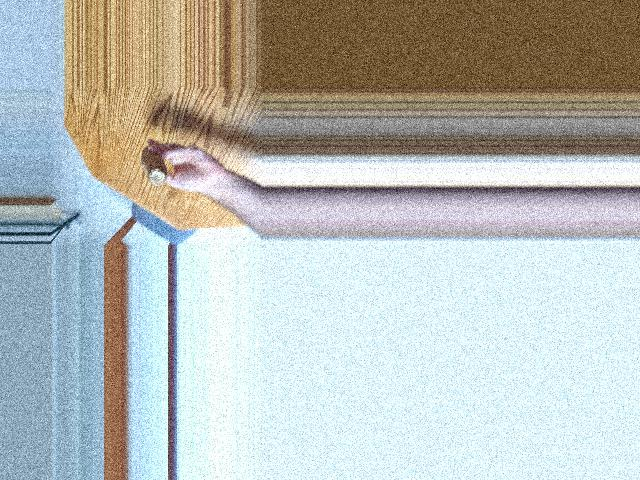sweet_potato: (140, 145, 173, 190)
